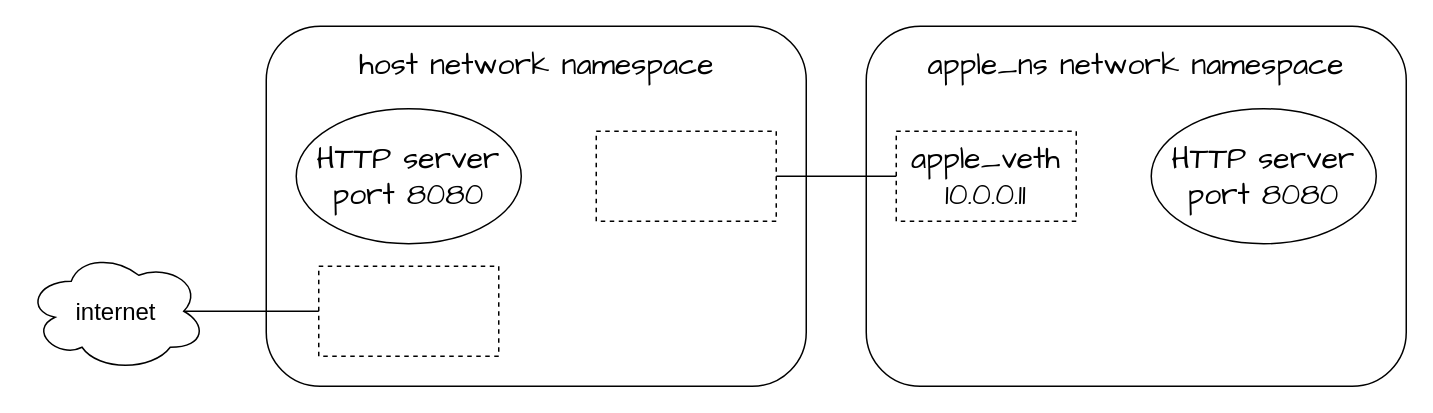
Image size: 1433x413. Some labels were removed from this diagram. Each missing label, with the centre of its shape:
"enp0s7 192.168.64.4" goes at [408,310].
"host_veth 10.0.0.10" goes at [685,175].
